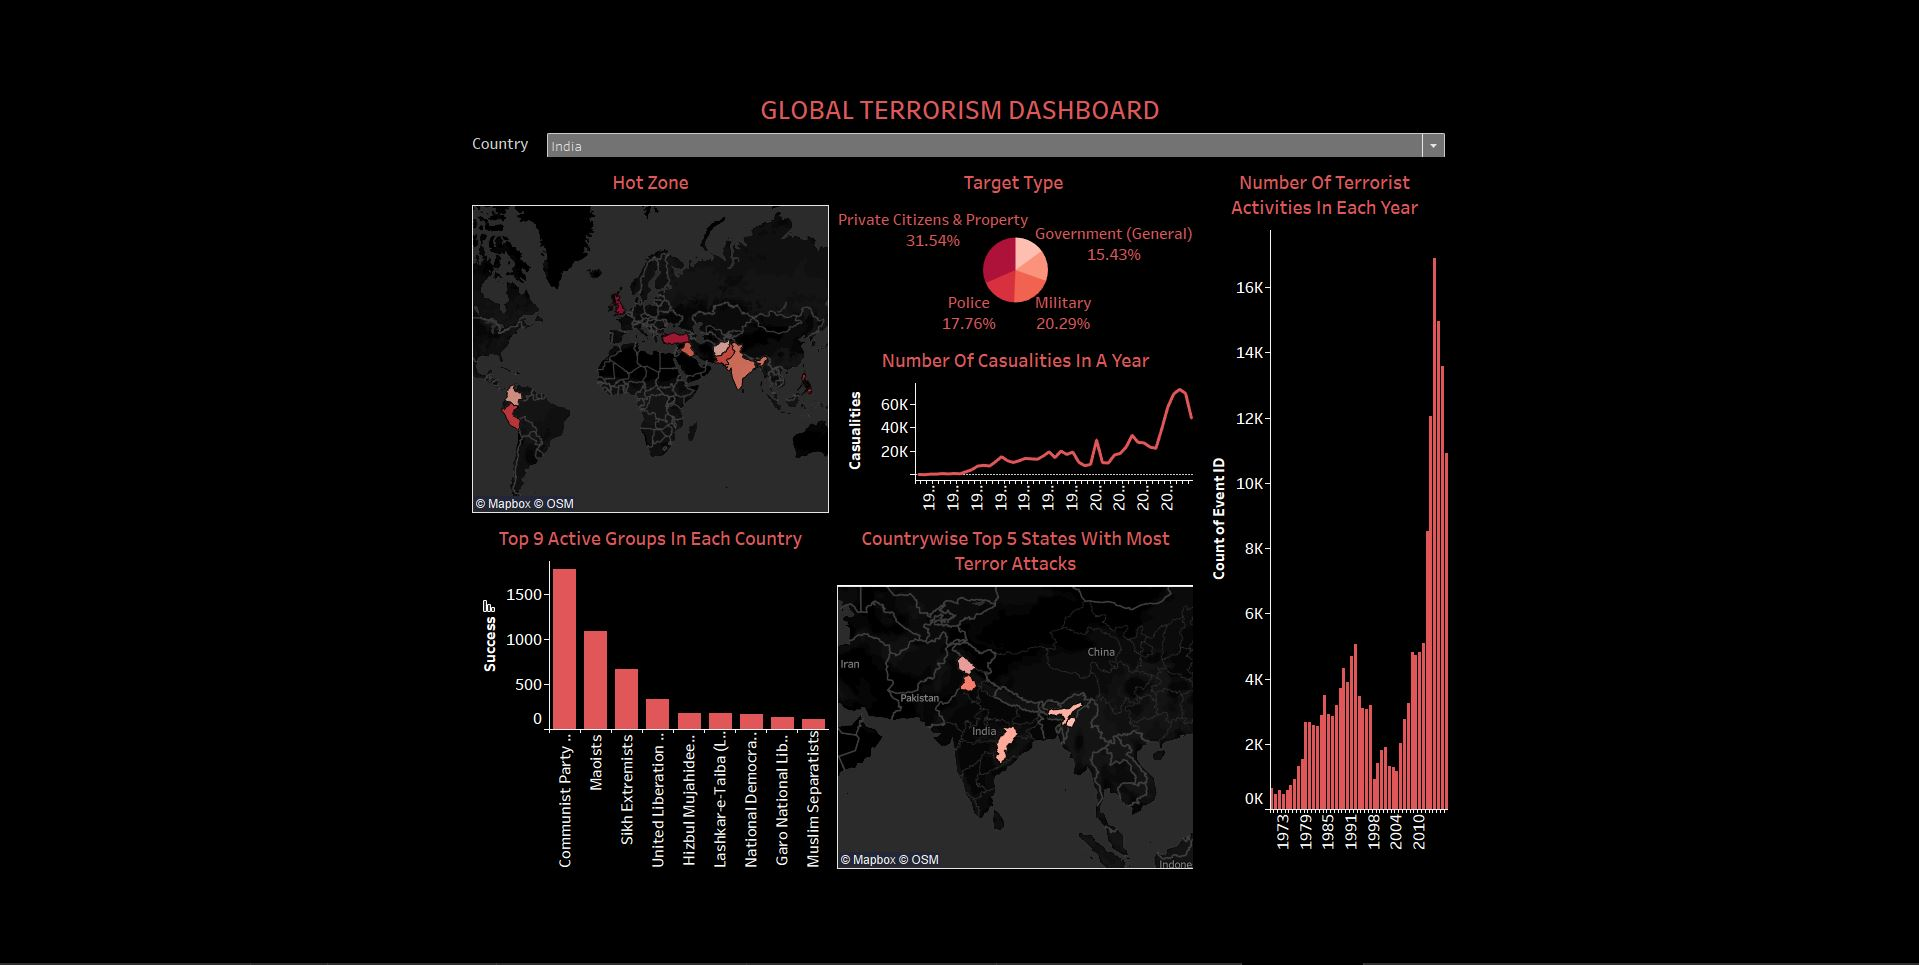

The dashboard page shown, as its layout file describes it:
{"tool":"tableau","page":{"name":"Dashboard 1","canvas":[1000,800],"ordinal":0},"visuals":[{"type":"text","box":[8,8,984,40]},{"type":"filter","title":"Top 9 Active Groups In Each Country","param":"[federated.0j9asqr14sjrqo1fnmknl15sy5zw].[none:Country:nk]","box":[8,48,984,32]},{"type":"worksheet","title":"hot zone","mark":"Multipolygon","box":[8,80,364.5,356]},{"type":"worksheet","title":"Target Type pie chart","mark":"Pie","box":[372.5,80,364.5,178]},{"type":"worksheet","title":"Number Of Terrorist Activities In Each Year","mark":"Automatic","rows":["EventID"],"cols":["Year"],"box":[737,80,255,712]},{"type":"worksheet","title":"Number Of Casualities In A Year","mark":"Line","rows":["Calculation_2083477808404877312"],"cols":["Year"],"box":[372.5,258,364.5,178]},{"type":"worksheet","title":"Top 9 Active Groups In Each Country","mark":"Automatic","rows":["Success"],"cols":["Group"],"box":[8,436,364.5,356]},{"type":"worksheet","title":"Countrywise Top 5 States With Most Terror Attacks","mark":"Automatic","box":[372.5,436,364.5,356]}]}

Visuals, with their boxes on the page's 1000x800 design canvas (x1, y1, x2, y2). These are canvas units, not pixel positions in the 1919x965 screenshot, which may show the page scaled, cropped or inside an application window:
text: 8,8,992,48
"Top 9 Active Groups In Each Country" filter: 8,48,992,80
"hot zone" worksheet (Multipolygon marks): 8,80,372,436
"Target Type pie chart" worksheet (Pie marks): 372,80,737,258
"Number Of Terrorist Activities In Each Year" worksheet: 737,80,992,792
"Number Of Casualities In A Year" worksheet (Line marks): 372,258,737,436
"Top 9 Active Groups In Each Country" worksheet: 8,436,372,792
"Countrywise Top 5 States With Most Terror Attacks" worksheet: 372,436,737,792
